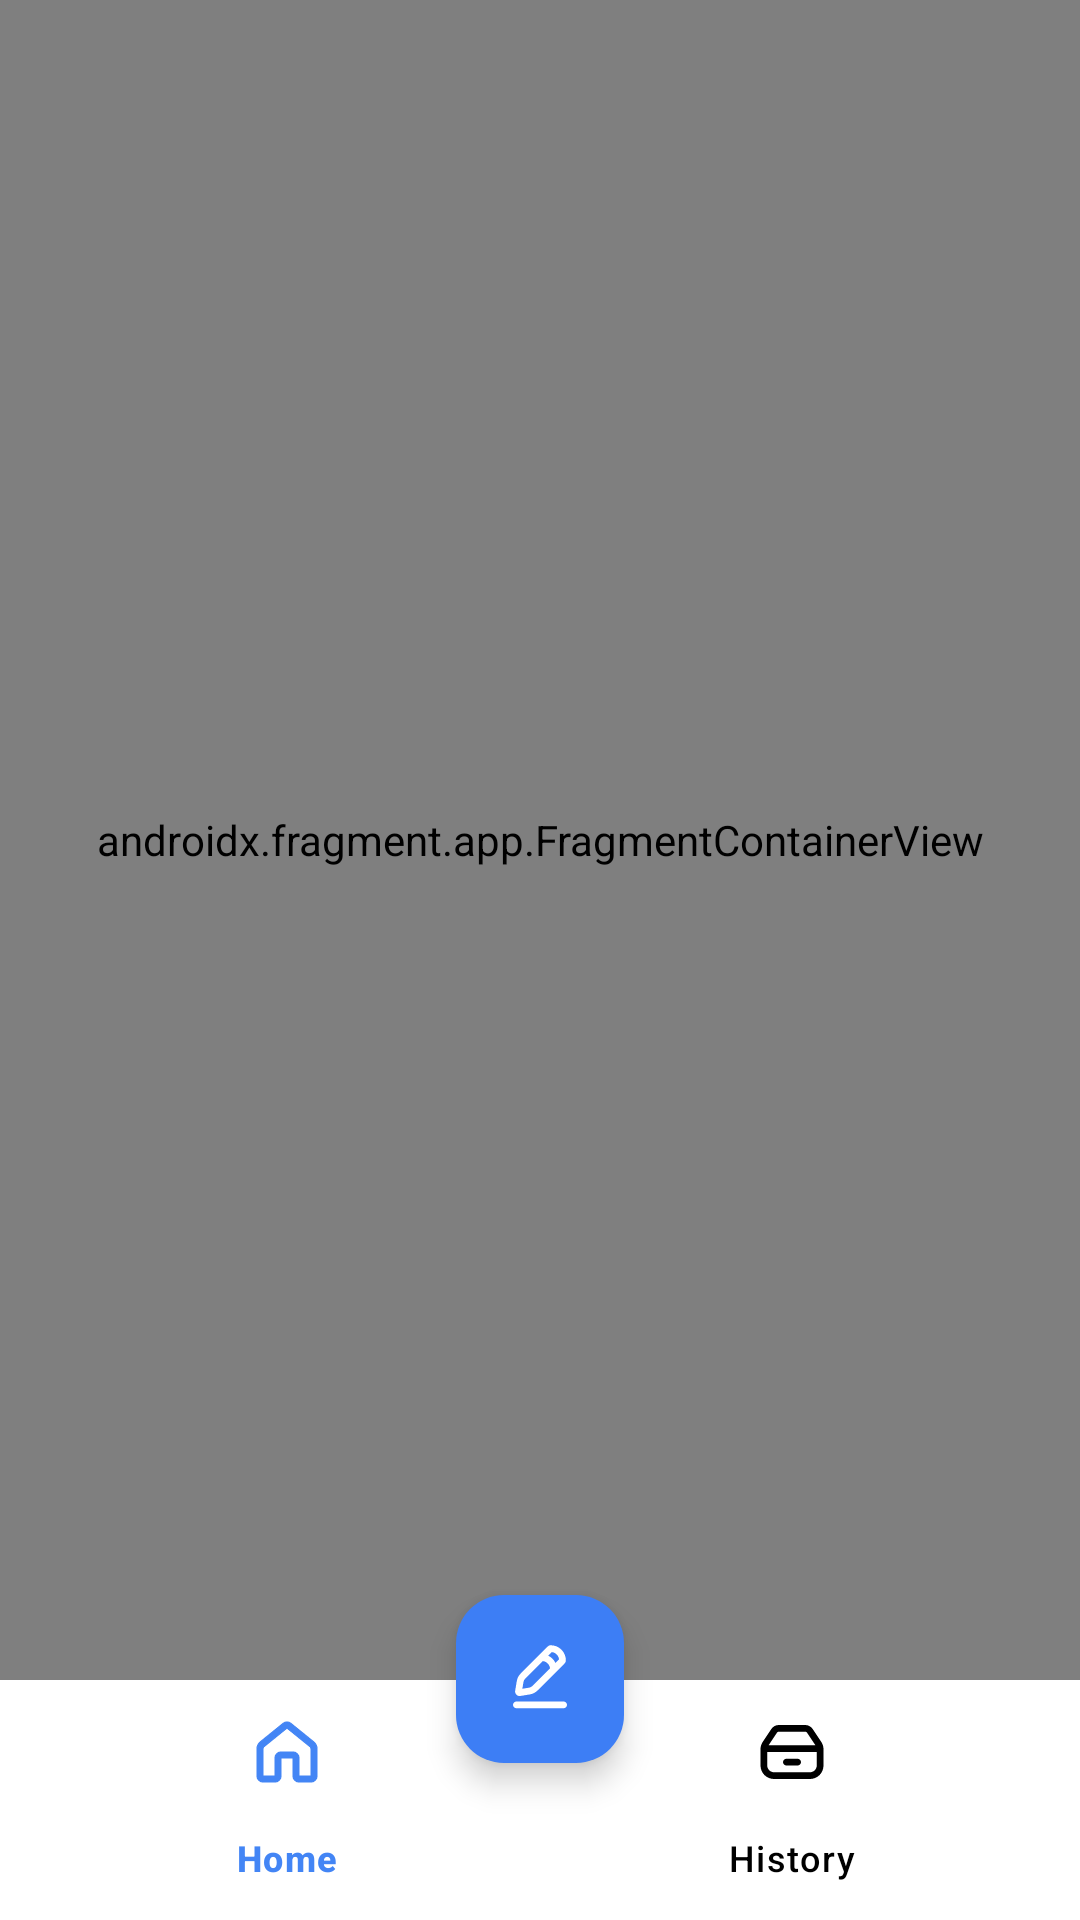

Named icons in this screenshot (1080px×1920px) and their centers, point (x, y):
Write journal: point (540, 1679)
